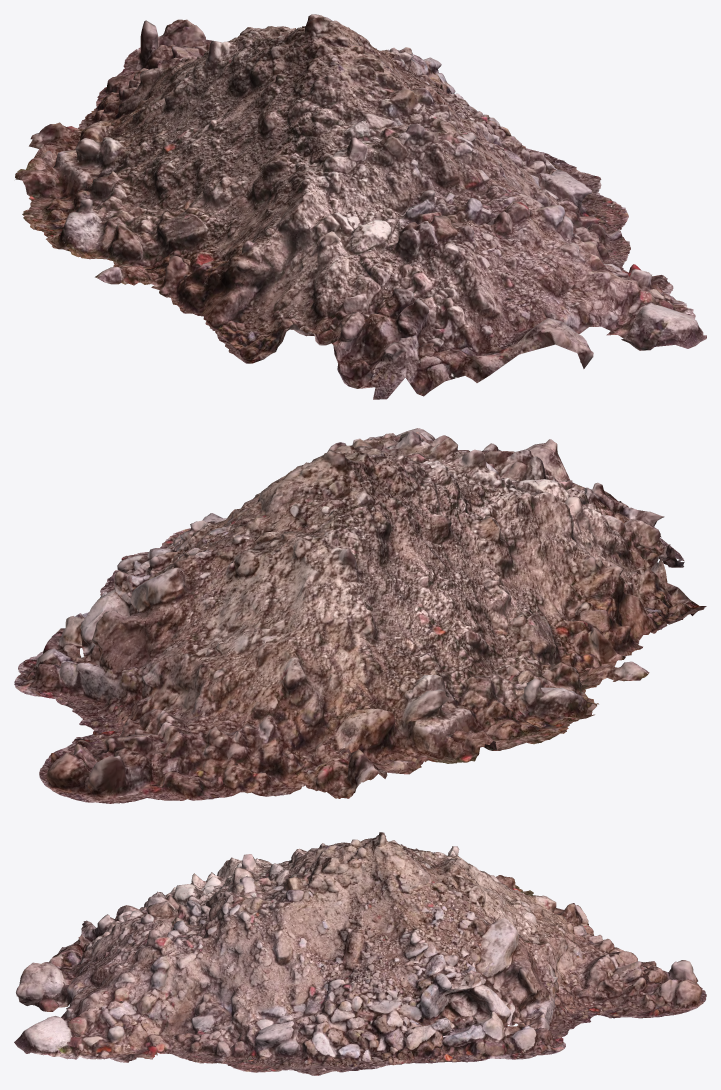
Rendered from rubble-pile.glb.
The picture shows the model from 3 angles, top to bottom: view 1: azimuth 30°, elevation 25°; view 2: azimuth 150°, elevation 25°; view 3: azimuth 270°, elevation 25°; orthographic projection. The views are drawn at different scales.
Visible parts, largest first — view 1: Object_4; view 2: Object_4; view 3: Object_4.
Boxes of the visible parts, bbox=[...] form: Object_4: bbox=[15, 14, 706, 399]; Object_4: bbox=[14, 428, 706, 803]; Object_4: bbox=[14, 832, 706, 1075].
Size of the model in its own units: 2.89 by 1.16 by 4.39.
Materials: 1 (1 with a texture image).
